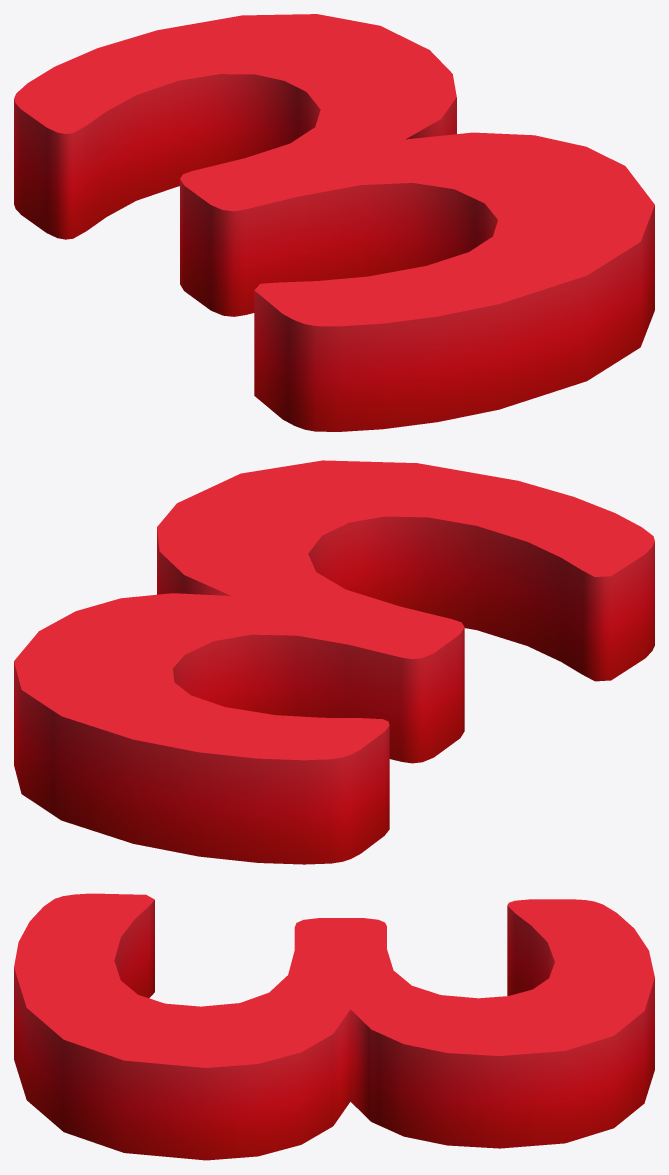
The model's file is figure_3.fbx.
3 renders of one model, top to bottom at view 1: azimuth 30°, elevation 25°; view 2: azimuth 150°, elevation 25°; view 3: azimuth 270°, elevation 25°, orthographic. The views are drawn at different scales.
Visible parts, largest first — view 1: figure_3; view 2: figure_3; view 3: figure_3.
Boxes of the visible parts, x1,y1,x2,y2 form: figure_3: (14,14,654,431); figure_3: (14,460,654,864); figure_3: (14,893,654,1160).
Size of the model in its own units: 15.19 by 3.75 by 23.57.
